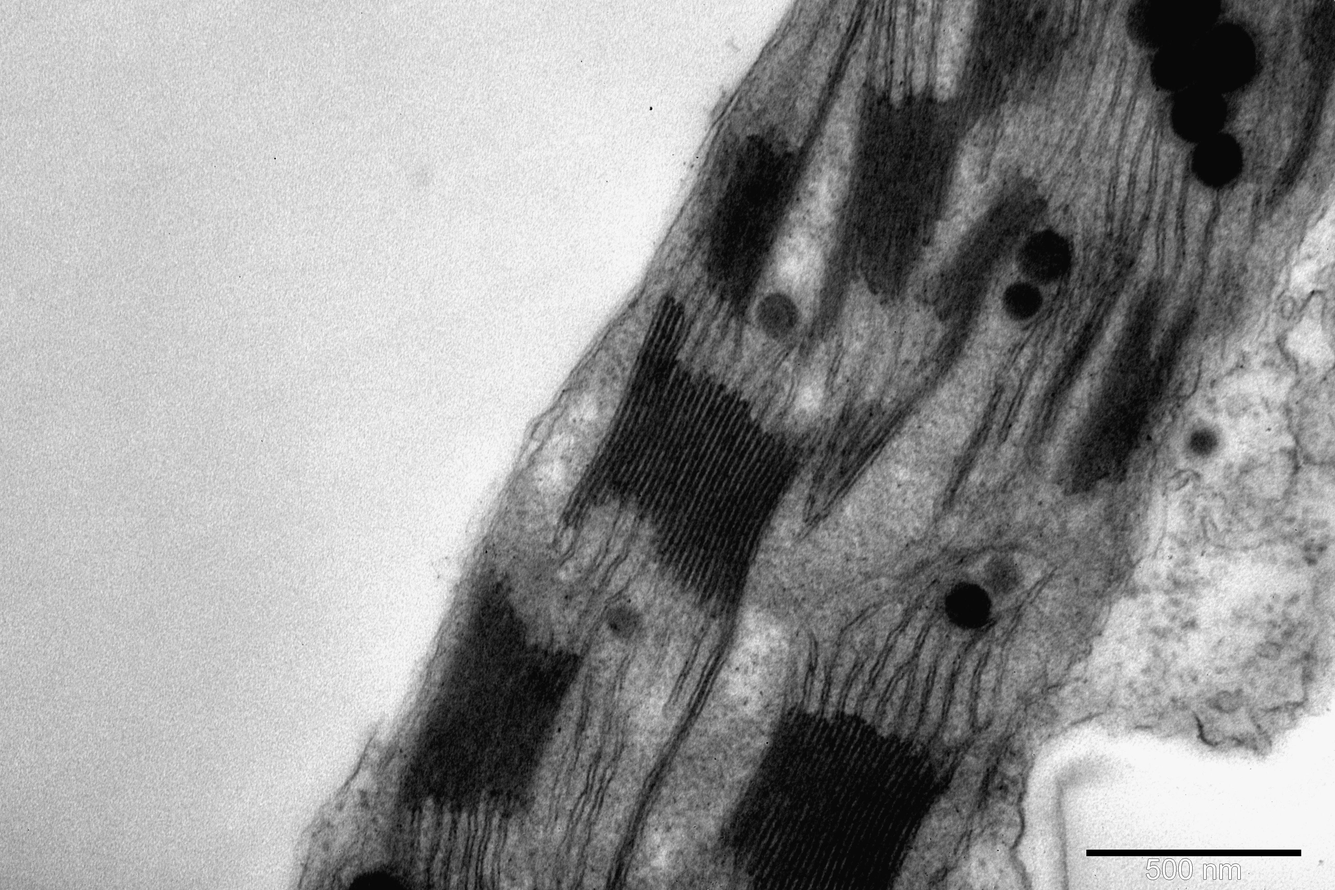granum: (551, 291, 818, 630), (793, 75, 957, 361), (390, 576, 584, 817), (714, 699, 954, 890), (1052, 278, 1200, 495), (1009, 251, 1138, 453), (920, 176, 1044, 373), (694, 131, 807, 325), (1266, 0, 1335, 204), (943, 0, 1034, 149), (821, 392, 910, 505)
